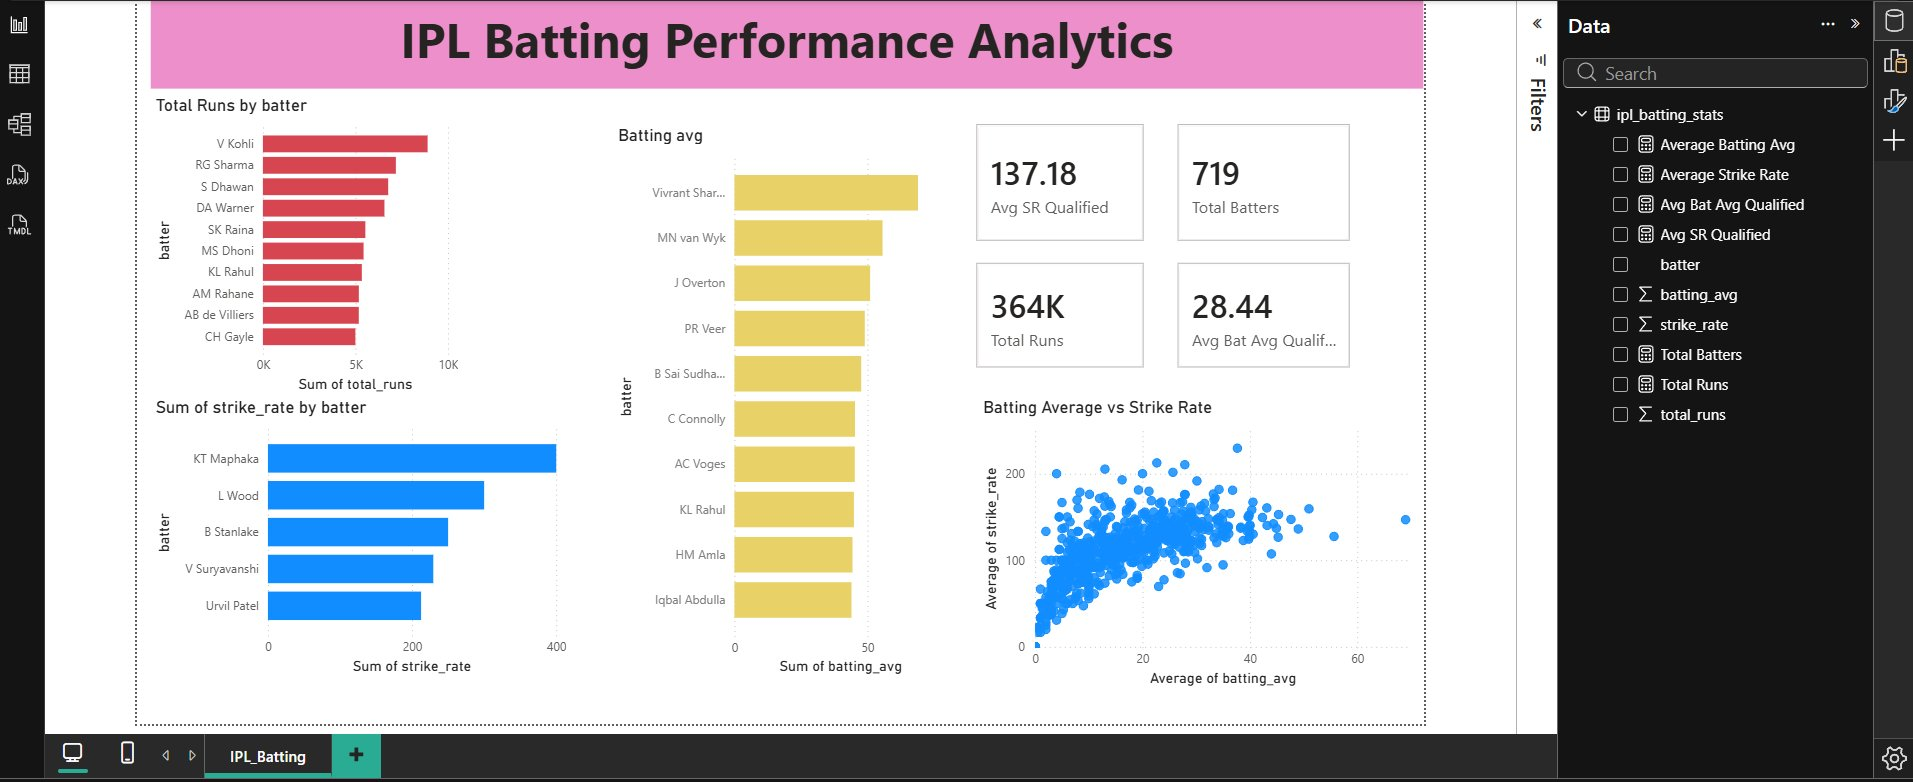

Layout of this report page (visuals, bound fields, positions):
{"tool":"powerbi","page":{"name":"IPL_Batting","canvas":[1280,720],"ordinal":0},"visuals":[{"type":"clusteredBarChart","title":"Total Runs by batter","fields":{"Category":["ipl_batting_stats.batter"],"Y":["Sum(ipl_batting_stats.total_runs)"]},"box":[13.7,93.3,311,301],"z":0},{"type":"clusteredBarChart","title":"Batting avg","fields":{"Category":["ipl_batting_stats.batter"],"Y":["Sum(ipl_batting_stats.batting_avg)"]},"box":[473.9,123.2,344.6,552.3],"z":1000},{"type":"textbox","box":[13.7,0,1266.4,87.1],"z":2000},{"type":"scatterChart","title":"Batting Average vs Strike Rate","fields":{"Category":["ipl_batting_stats.batter"],"X":["Avg(ipl_batting_stats.batting_avg)"],"Y":["Avg(ipl_batting_stats.strike_rate)"]},"box":[837.2,394.3,442.8,292.3],"z":3000},{"type":"cardVisual","fields":{"Data":["ipl_batting_stats.Avg SR Qualified"]},"box":[818.5,105.7,200.3,150.5],"z":5000},{"type":"cardVisual","fields":{"Data":["ipl_batting_stats.Total Batters"]},"box":[1018.8,105.7,205.3,150.5],"z":7000},{"type":"cardVisual","fields":{"Data":["ipl_batting_stats.Avg Bat Avg Qualified"]},"box":[1018.8,243.8,205.3,138.1],"z":8000},{"type":"cardVisual","fields":{"Data":["ipl_batting_stats.Total Runs"]},"box":[818.5,243.8,200.3,138.1],"z":9000},{"type":"barChart","fields":{"Category":["ipl_batting_stats.batter"],"Y":["Sum(ipl_batting_stats.strike_rate)"]},"box":[14,394.6,418.7,280.4],"z":9001}]}

Visuals, with their boxes on the page's 1280x720 design canvas (x1, y1, x2, y2). These are canvas units, not pixel positions in the 1913x782 screenshot, which may show the page scaled, cropped or inside an application window:
"Total Runs by batter" clusteredBarChart: (14,93,325,394)
"Batting avg" clusteredBarChart: (474,123,818,676)
textbox: (14,0,1280,87)
"Batting Average vs Strike Rate" scatterChart: (837,394,1280,687)
cardVisual - ipl_batting_stats.Avg SR Qualified: (818,106,1019,256)
cardVisual - ipl_batting_stats.Total Batters: (1019,106,1224,256)
cardVisual - ipl_batting_stats.Avg Bat Avg Qualified: (1019,244,1224,382)
cardVisual - ipl_batting_stats.Total Runs: (818,244,1019,382)
barChart - ipl_batting_stats.batter x Sum(ipl_batting_stats.strike_rate): (14,395,433,675)
